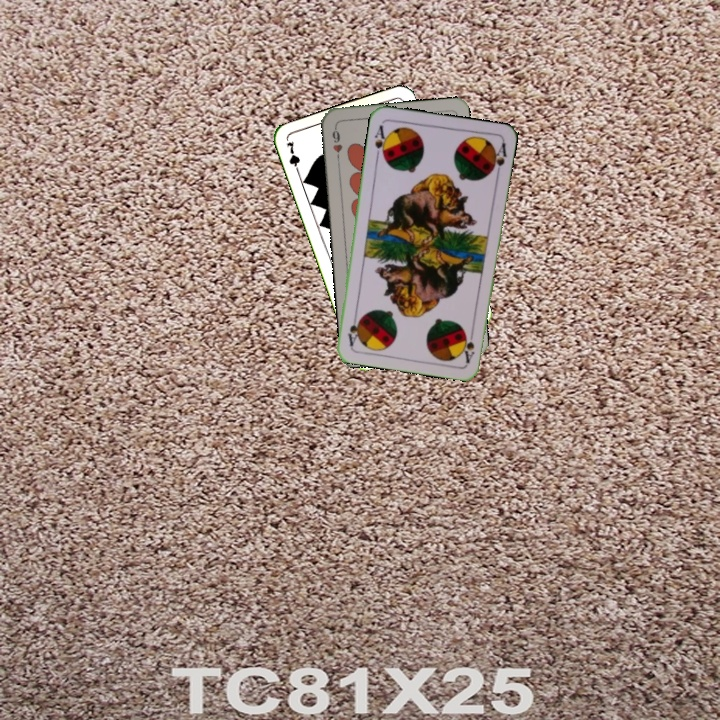G7: (282, 137, 303, 178)
H9: (328, 122, 345, 163)
SA: (371, 121, 390, 161), (459, 325, 477, 365)
